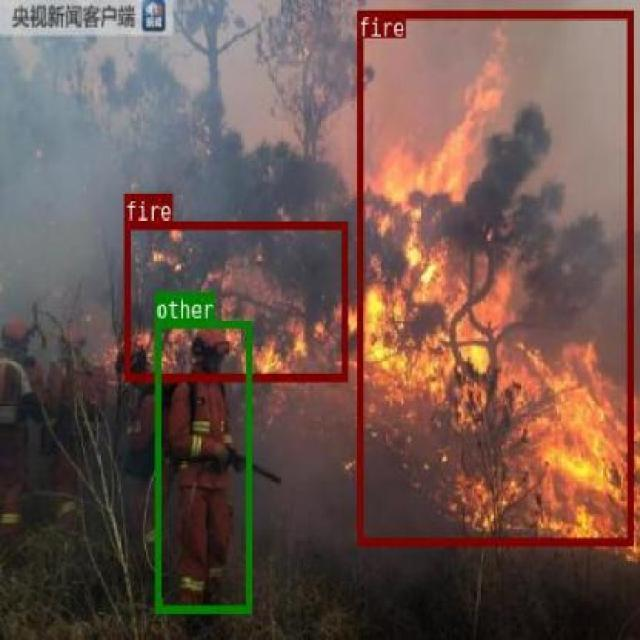Fire: (356, 8, 632, 546), (124, 220, 347, 380)
